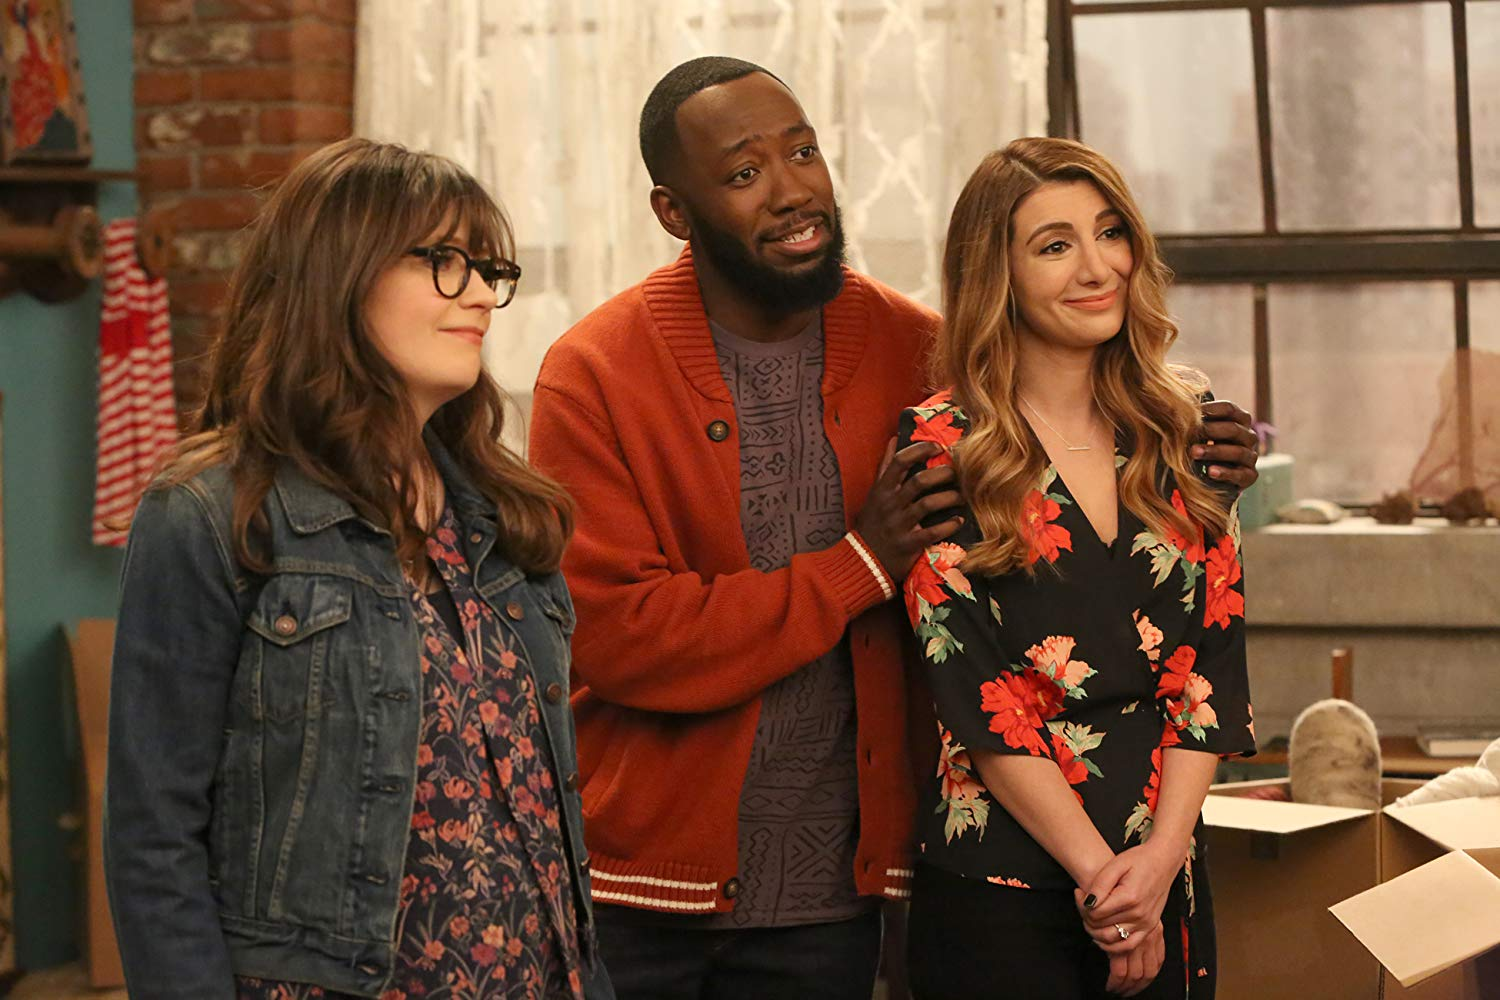person: (109, 135, 597, 1000), (556, 54, 920, 999), (900, 128, 1239, 990)
